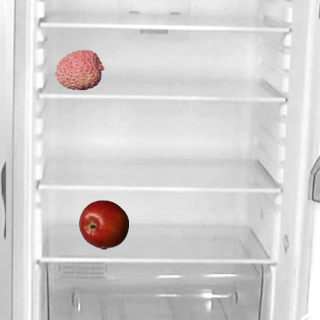Apple Braeburn: (78, 199, 128, 249)
Lychee: (54, 44, 104, 94)
